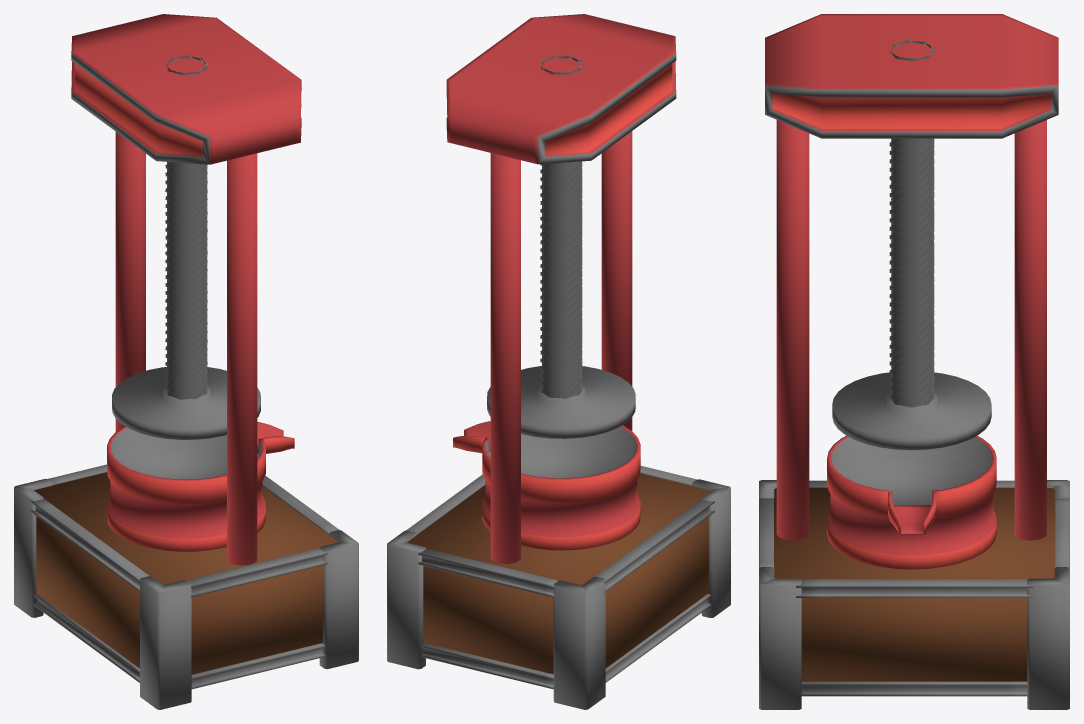
The model's file is oil_press.glb.
The picture shows the model from 3 angles, left to right: view 1: azimuth 30°, elevation 25°; view 2: azimuth 150°, elevation 25°; view 3: azimuth 270°, elevation 25°; orthographic projection. The views are drawn at different scales.
Parts seen in each view (by area): view 1: press_body, Worm Gear, press_head; view 2: press_body, Worm Gear, press_head; view 3: press_body, Worm Gear, press_head.
Boxes of the visible parts, x1,y1,x2,y2 form: press_body: [14, 14, 358, 709]; Worm Gear: [165, 55, 207, 399]; press_head: [112, 367, 260, 439]; press_body: [387, 14, 730, 709]; Worm Gear: [540, 55, 582, 398]; press_head: [487, 366, 635, 438]; press_body: [759, 14, 1069, 709]; Worm Gear: [889, 40, 934, 407]; press_head: [832, 372, 991, 450].
Bounding box in the file's own units: 15.54 × 41.81 × 19.39.
